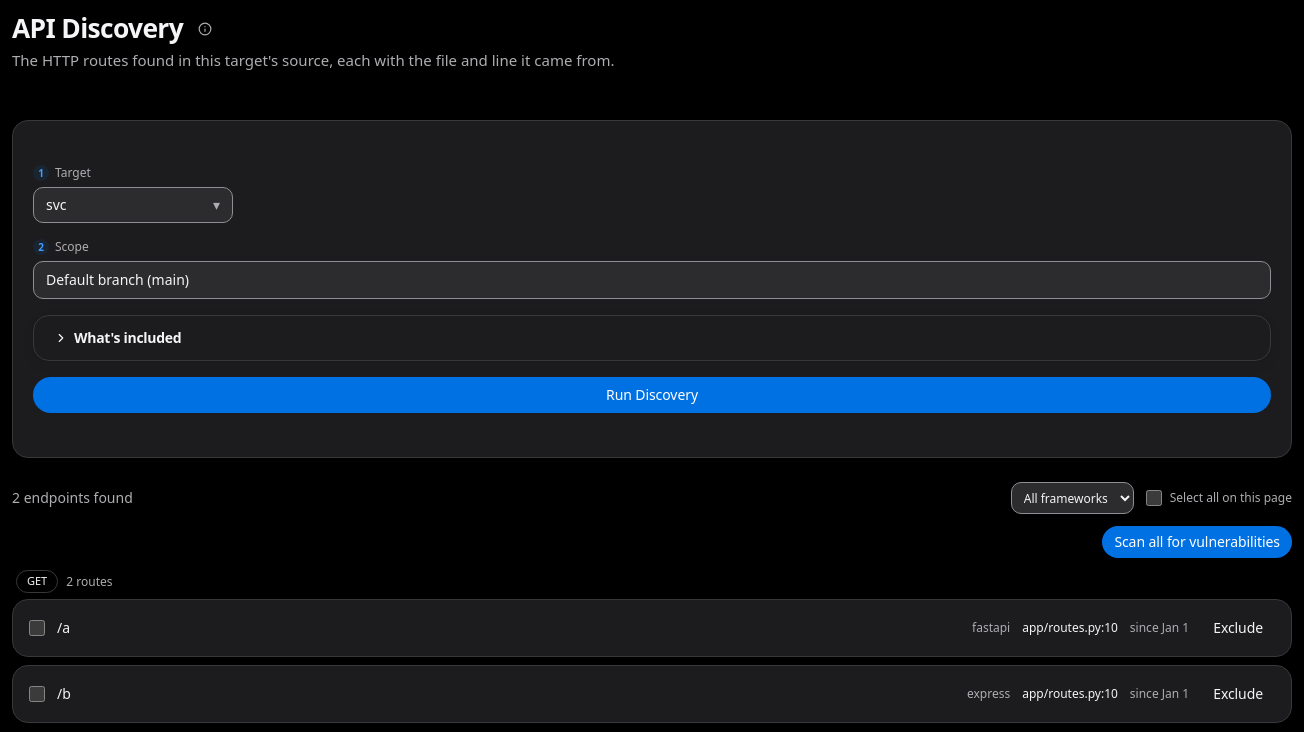
dense grouped table › narrows the table to one framework and keeps bulk-scan scoped to what is shown
Check: the text "/a" is shown, box [57,618,70,638]
Select "fastapi" in the dropdown named "Filter by framework": x=1072, y=498 [1011,482,1134,514]
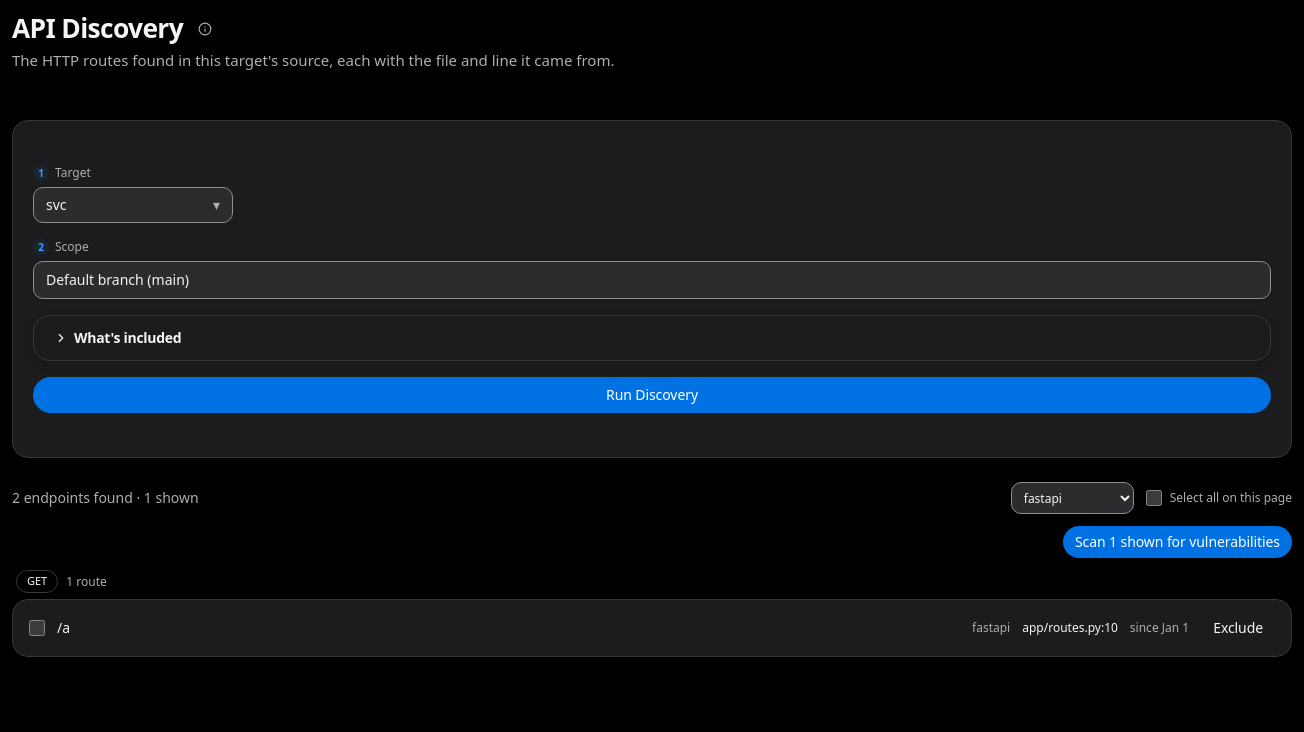
Check: the text "/a" is shown, box [57,618,70,638]
Check: the text "/b" is gone
Check: the button "Scan 1 shown for vulnerabilities" is shown, box [1063,526,1292,558]
